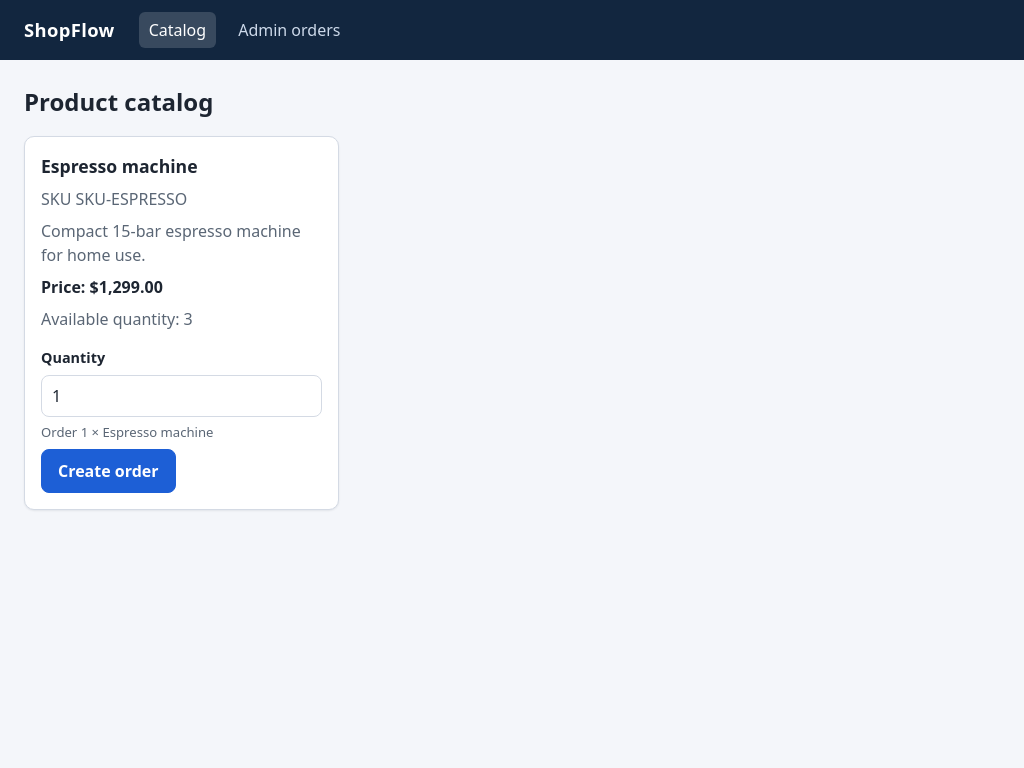
Test: CatalogPage › reports insufficient inventory with the available quantity from error details and refreshes the catalog
This screenshot has width=1024, height=768.
Expected: the heading "Espresso machine" is shown, [41,154,198,178]
Replace the text in the number field labelled "Quantity" with "5" at (181, 396), box [41,375,322,417]
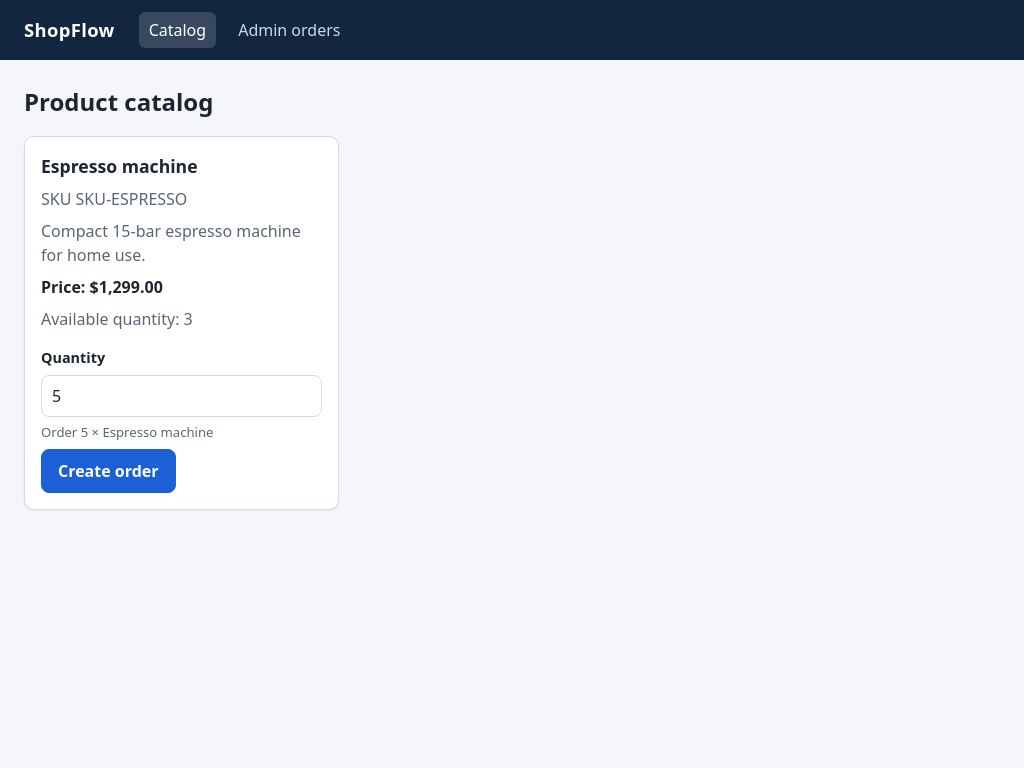
Click the button "Create order".
click(108, 471)  # box [41,449,176,493]
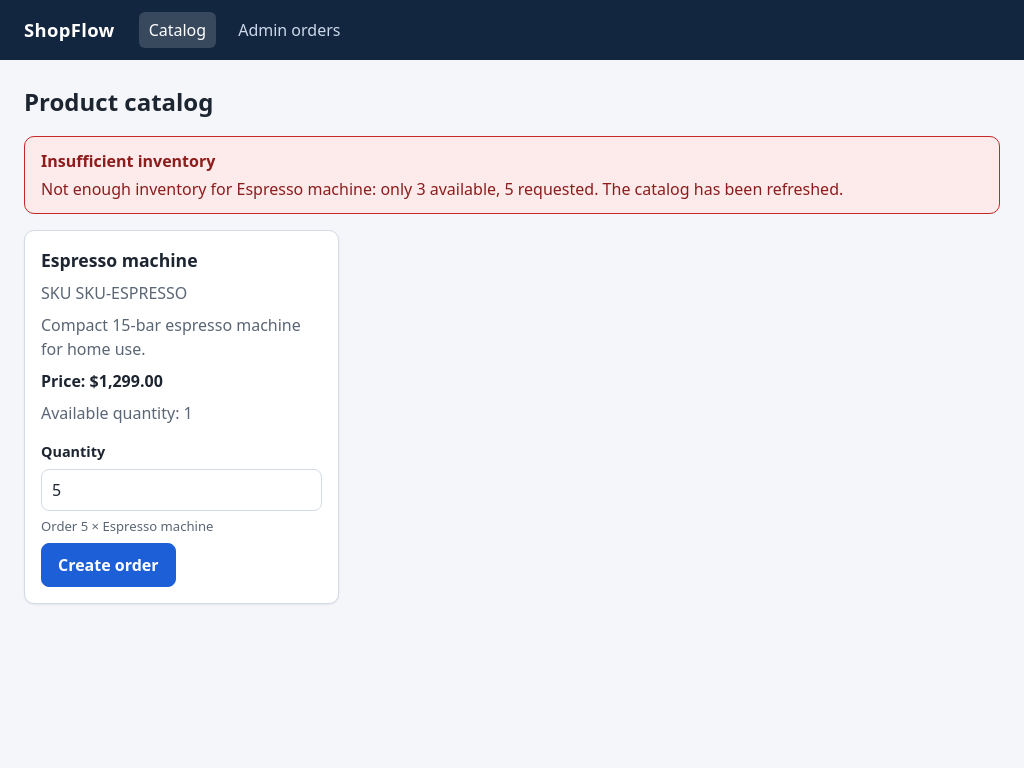
Expected: the heading "Product catalog" is shown, [24,85,213,118]
Now the text "only 3 available, 5 requested" is shown, box [41,178,843,200]
Now the text "Available quantity: 1" is shown, box [41,402,193,424]
